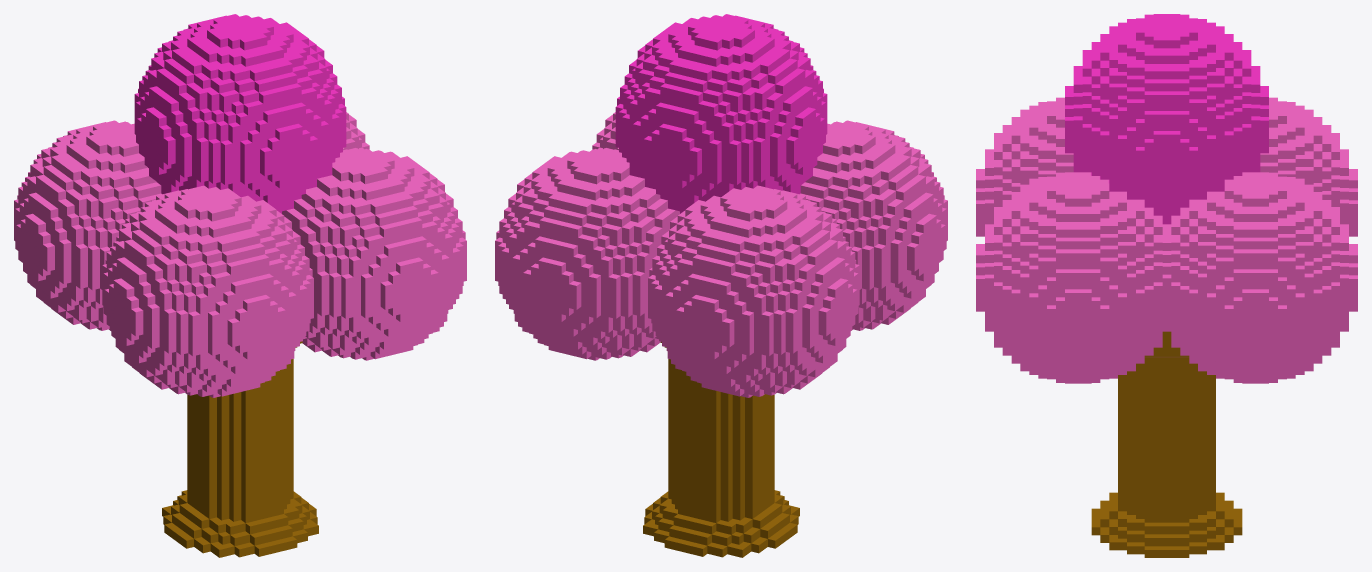
Rendered from Spring Tree01-3.fbx.
The picture shows the model from 3 angles, left to right: view 1: azimuth 30°, elevation 25°; view 2: azimuth 150°, elevation 25°; view 3: azimuth 270°, elevation 25°; orthographic projection.
Visible parts, largest first — view 1: Tree01-7, Tree01-6, Tree01-Stem, Tree01-Root; view 2: Tree01-7, Tree01-6, Tree01-Stem, Tree01-Root; view 3: Tree01-7, Tree01-6, Tree01-Stem, Tree01-Root.
Boxes of the visible parts, box(x1,y1,x2,y2) form: Tree01-7: box(14, 112, 466, 397); Tree01-6: box(134, 14, 346, 191); Tree01-Stem: box(187, 359, 293, 522); Tree01-Root: box(162, 490, 318, 557); Tree01-7: box(495, 112, 947, 397); Tree01-6: box(615, 14, 827, 191); Tree01-Stem: box(668, 359, 774, 522); Tree01-Root: box(643, 490, 799, 557); Tree01-7: box(976, 97, 1357, 383); Tree01-6: box(1065, 14, 1268, 190); Tree01-Stem: box(1118, 357, 1215, 522); Tree01-Root: box(1091, 492, 1242, 557).
Bounding box in the file's own units: 430 × 620 × 430.
